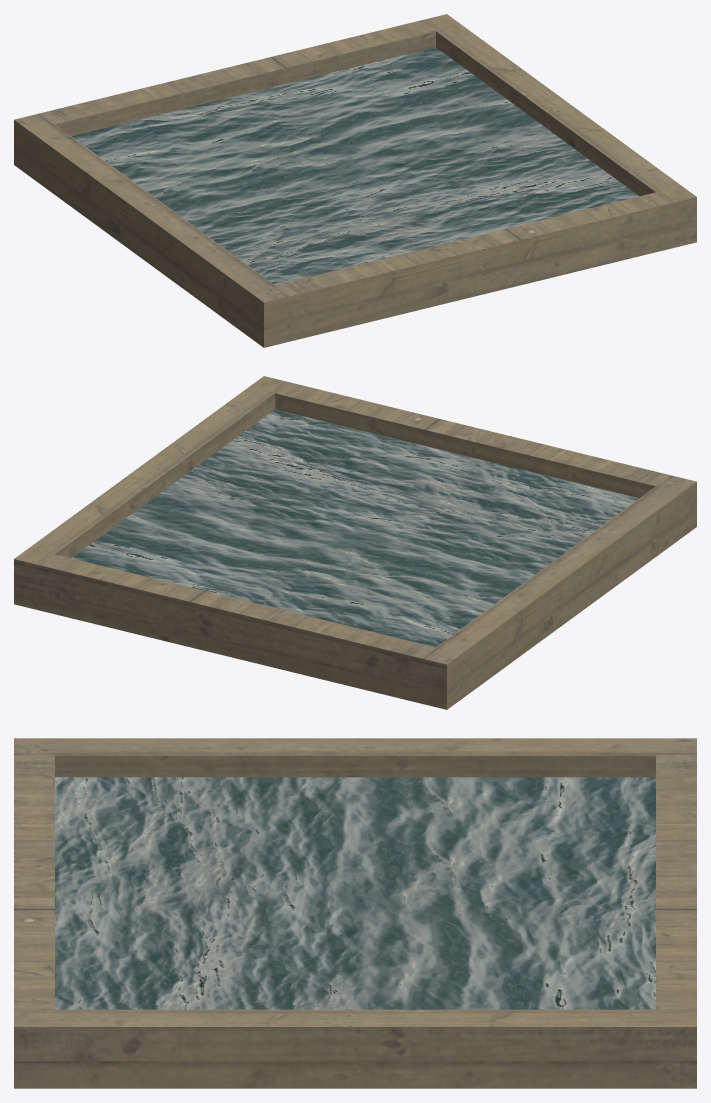
Rendered from SM_Water.fbx.
3 views of the same model, one above another, from view 1: azimuth 30°, elevation 25°; view 2: azimuth 150°, elevation 25°; view 3: azimuth 270°, elevation 25° (orthographic). The views are drawn at different scales.
Visible parts, largest first — view 1: pCube2; view 2: pCube2; view 3: pCube2.
Boxes of the visible parts, <box> form: pCube2: <box>14,14,696,347</box>; pCube2: <box>14,376,696,709</box>; pCube2: <box>14,738,696,1088</box>.
Size of the model in its own units: 10 by 1 by 10.
